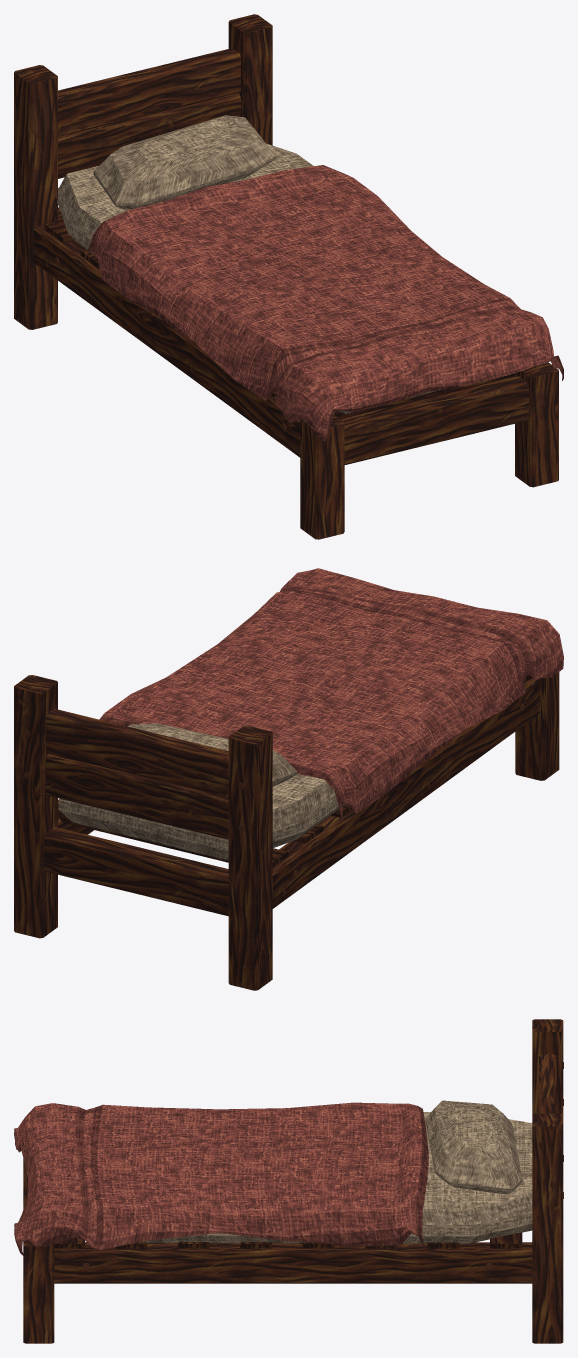
The model's file is Cama-Simples-com-Manta.glb.
3 views of the same model, one above another, from view 1: azimuth 30°, elevation 25°; view 2: azimuth 150°, elevation 25°; view 3: azimuth 270°, elevation 25° (orthographic). The views are drawn at different scales.
Parts seen in each view (by area): view 1: Manta, Pes, Cabeceira, Travesseiro, Travessas laterais, Travessas das pontas, Colchao, Estrado; view 2: Manta, Pes, Cabeceira, Travessas laterais, Travessas das pontas, Colchao, Travesseiro, Estrado; view 3: Manta, Travessas laterais, Pes, Colchao, Travesseiro, Estrado, Cabeceira.
Part boxes in pixels (x1,y1,x2,y2): Manta: (82, 165, 563, 441); Pes: (14, 14, 558, 539); Cabeceira: (58, 48, 240, 178); Travesseiro: (93, 115, 276, 209); Travessas laterais: (33, 222, 300, 457); Travessas das pontas: (58, 207, 528, 464); Colchao: (57, 143, 439, 414); Estrado: (45, 221, 514, 418); Manta: (99, 568, 563, 821); Pes: (14, 672, 559, 990); Cabeceira: (45, 708, 228, 839); Travessas laterais: (58, 678, 539, 908); Travessas das pontas: (44, 827, 228, 916); Colchao: (58, 774, 345, 860); Travesseiro: (127, 723, 297, 786); Estrado: (58, 673, 531, 867); Manta: (14, 1102, 428, 1257); Travessas laterais: (54, 1242, 532, 1283); Pes: (23, 1019, 563, 1343); Colchao: (141, 1112, 532, 1243); Travesseiro: (425, 1100, 522, 1194); Estrado: (54, 1232, 522, 1248); Cabeceira: (539, 1054, 556, 1113).
Size of the model in its own units: 1.03 by 0.892 by 2.03.
Materials: 3 (3 with a texture image).
